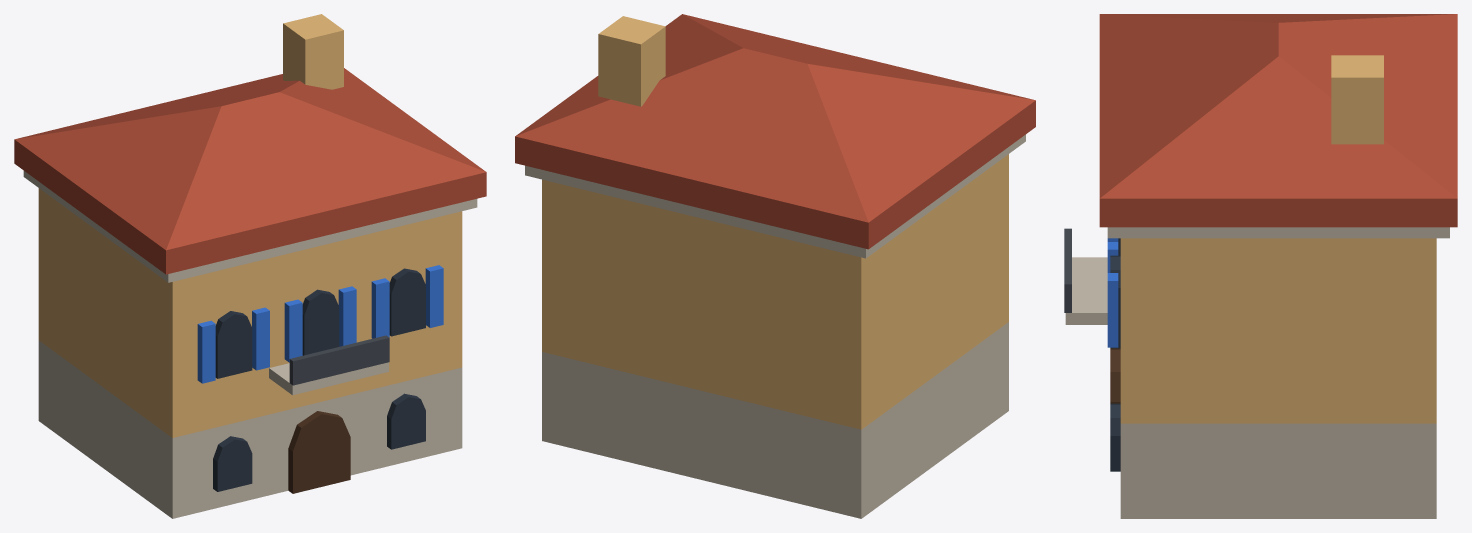
File: house_3_a.glb
3 renders of one model, left to right at view 1: azimuth 30°, elevation 25°; view 2: azimuth 150°, elevation 25°; view 3: azimuth 270°, elevation 25°, orthographic. The views are drawn at different scales.
Visible parts, largest first — view 1: house_3_a; view 2: house_3_a; view 3: house_3_a.
Boxes of the visible parts, x1=… form: house_3_a: x1=14, y1=14, x2=486, y2=518; house_3_a: x1=515, y1=14, x2=1035, y2=518; house_3_a: x1=1064, y1=14, x2=1457, y2=518.
Size of the model in its own units: 0.166 by 0.178 by 0.1495.
